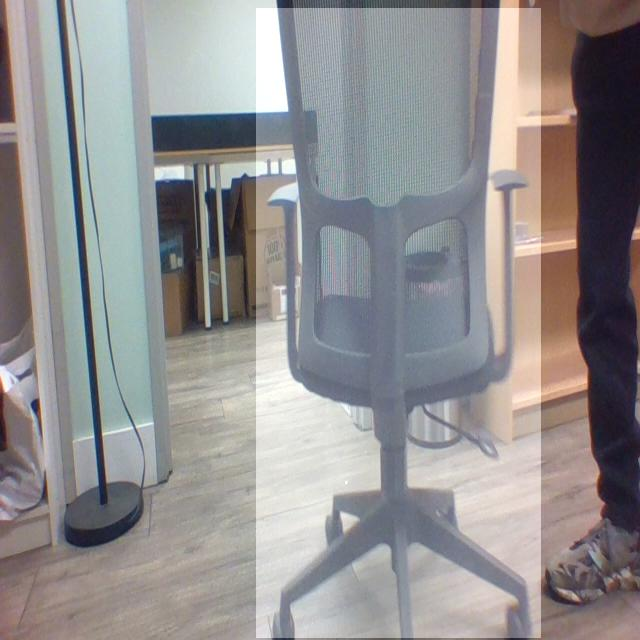black-chair: (256, 8, 542, 639)
